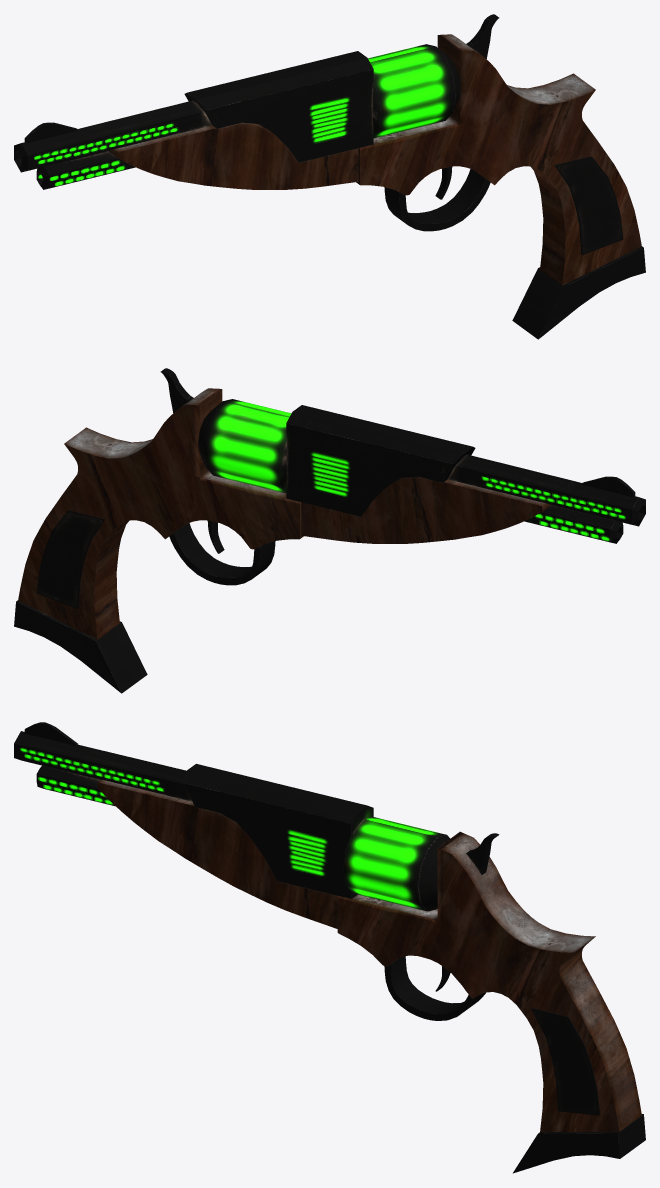
The model's file is green_laser_gun.gltf.
3 views of the same model, one above another, from view 1: azimuth 30°, elevation 25°; view 2: azimuth 150°, elevation 25°; view 3: azimuth 330°, elevation 25° (orthographic).
Visible parts, largest first — view 1: Object_3; view 2: Object_3; view 3: Object_3.
Part boxes in pixels (<box>): Object_3: <box>14,14,645,339</box>; Object_3: <box>14,368,645,693</box>; Object_3: <box>14,722,645,1173</box>.
Bounding box in the file's own units: 16.62 × 8.36 × 1.82.
1 material, 1 textured.
